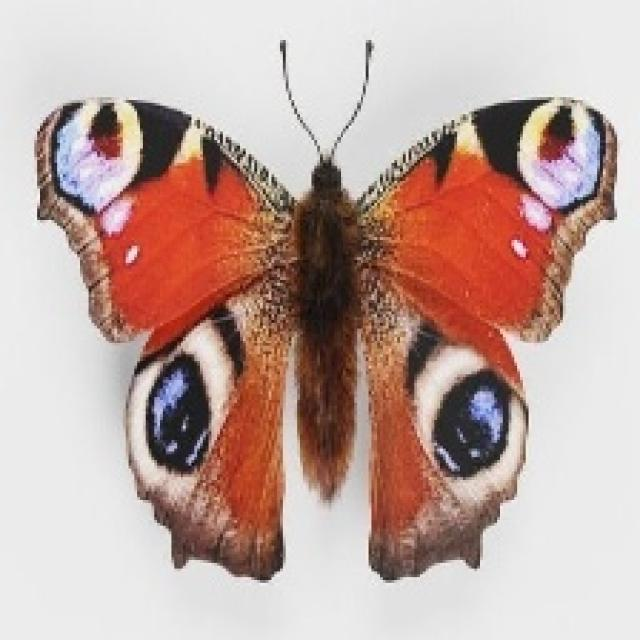butterfly: (32, 34, 617, 583)
